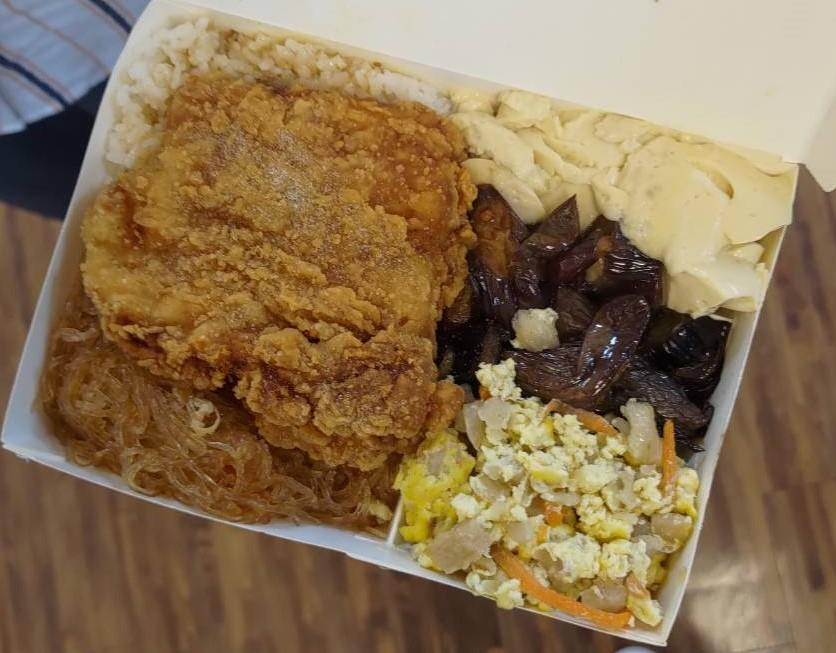big grilled chicken leg: (9, 9, 817, 640)
big herbal chicken leg: (104, 7, 483, 205)
braised fish fillet: (405, 375, 711, 619), (463, 82, 792, 301), (45, 353, 410, 535), (456, 217, 740, 434)
braised pork: (89, 66, 482, 437)
